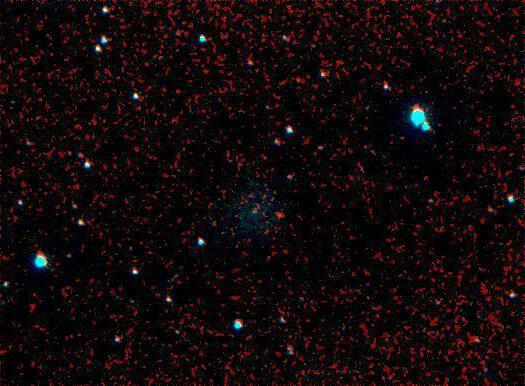star: (265, 201, 295, 231)
